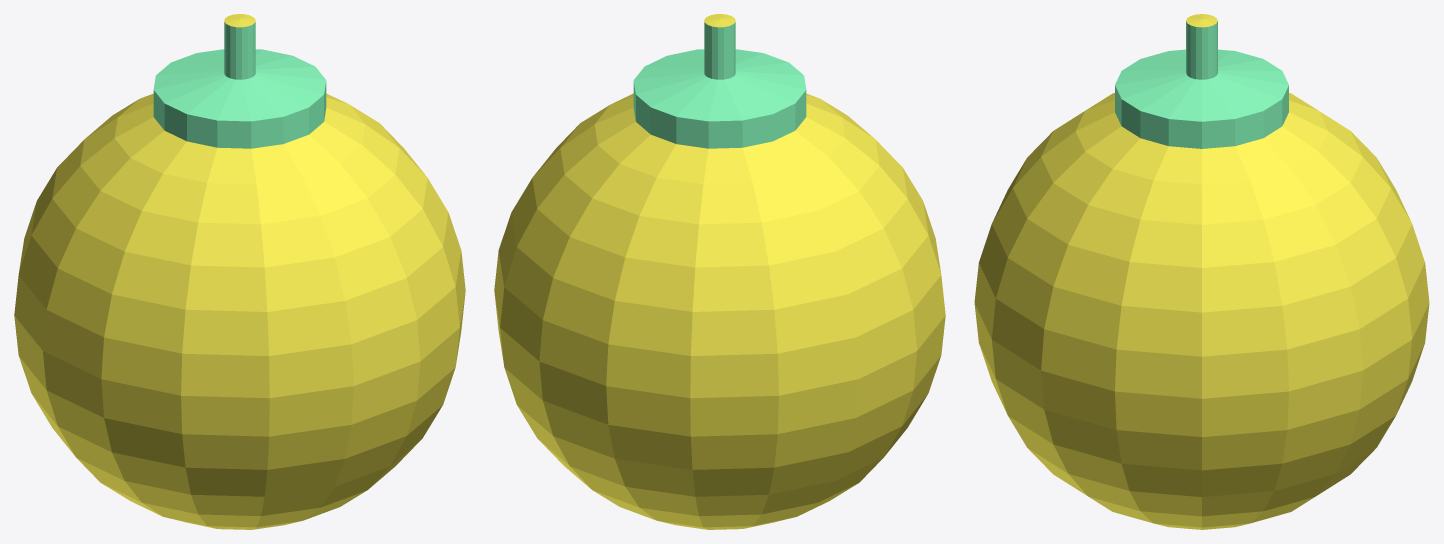
The model's file is ball.gltf.
3 views of the same model, side by side, from view 1: azimuth 30°, elevation 25°; view 2: azimuth 150°, elevation 25°; view 3: azimuth 270°, elevation 25° (orthographic).
Visible parts, largest first — view 1: 球; view 2: 球; view 3: 球.
Boxes of the visible parts, x1,y1,x2,y2 form: 球: [14, 14, 465, 529]; 球: [494, 14, 945, 529]; 球: [974, 14, 1429, 529].
Size of the model in its own units: 2 by 2.37 by 2.
1 material, 1 textured.
